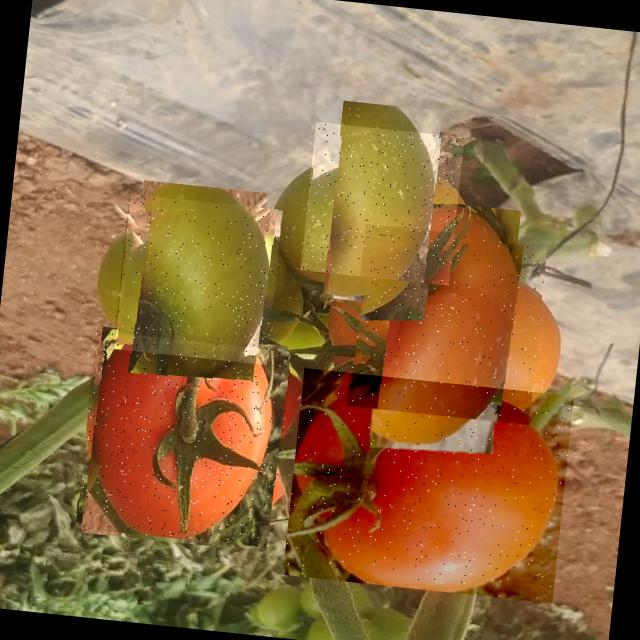Ripe Tomato: (282, 368, 574, 602), (75, 331, 292, 548), (347, 223, 548, 424)
Unripe Tomato: (110, 193, 282, 364), (300, 122, 464, 286)
